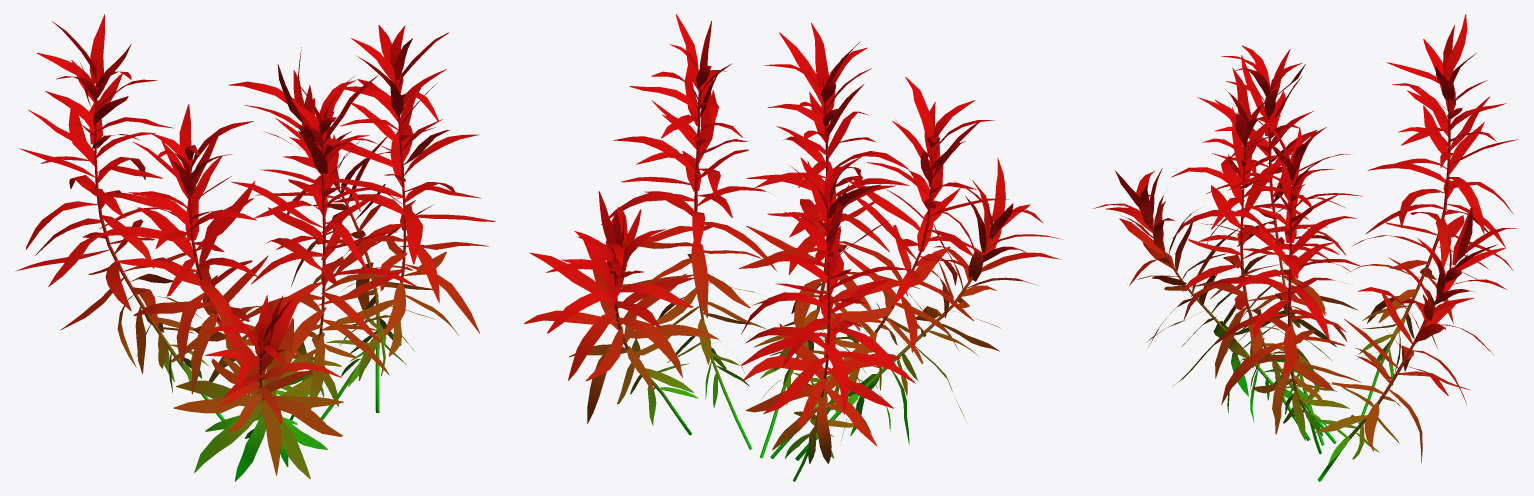
File: Butterfly Weed_LOD2_Var7.fbx
3 renders of one model, left to right at view 1: azimuth 30°, elevation 25°; view 2: azimuth 150°, elevation 25°; view 3: azimuth 270°, elevation 25°, orthographic. The views are drawn at different scales.
Parts seen in each view (by area): view 1: _35bt_Var7_LOD2; view 2: _35bt_Var7_LOD2; view 3: _35bt_Var7_LOD2.
Boxes of the visible parts, x1,y1,x2,y2 form: _35bt_Var7_LOD2: [15, 14, 495, 481]; _35bt_Var7_LOD2: [524, 14, 1062, 481]; _35bt_Var7_LOD2: [1092, 14, 1518, 481].
Size of the model in its own units: 68.83 by 69.16 by 73.55.
